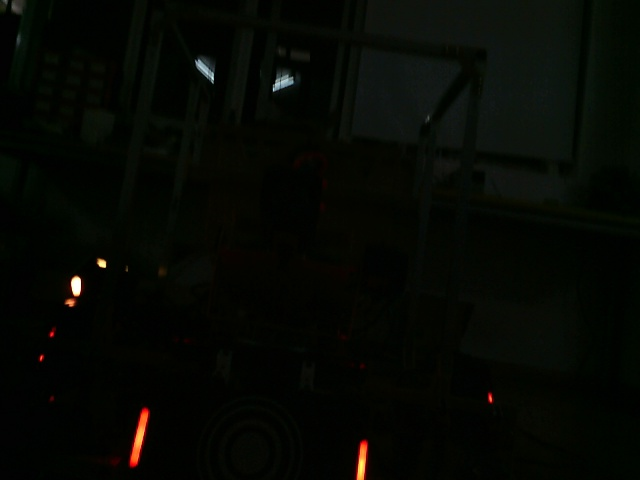lamp: (125, 405, 151, 468)
